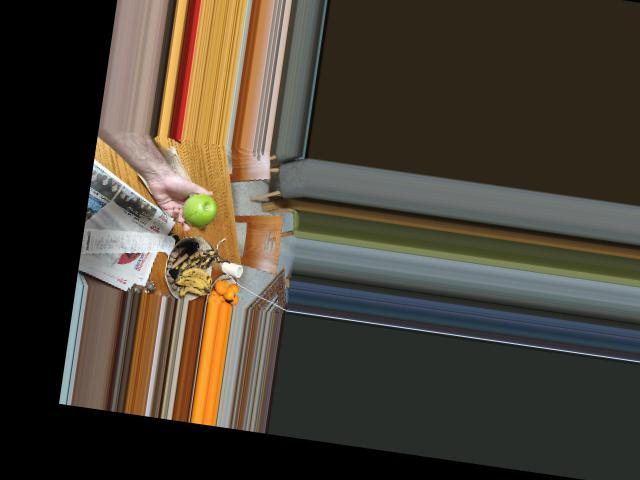apple: (181, 189, 221, 231)
